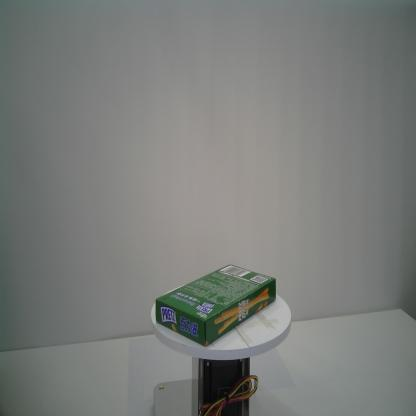Dessert: (155, 264, 276, 347)
